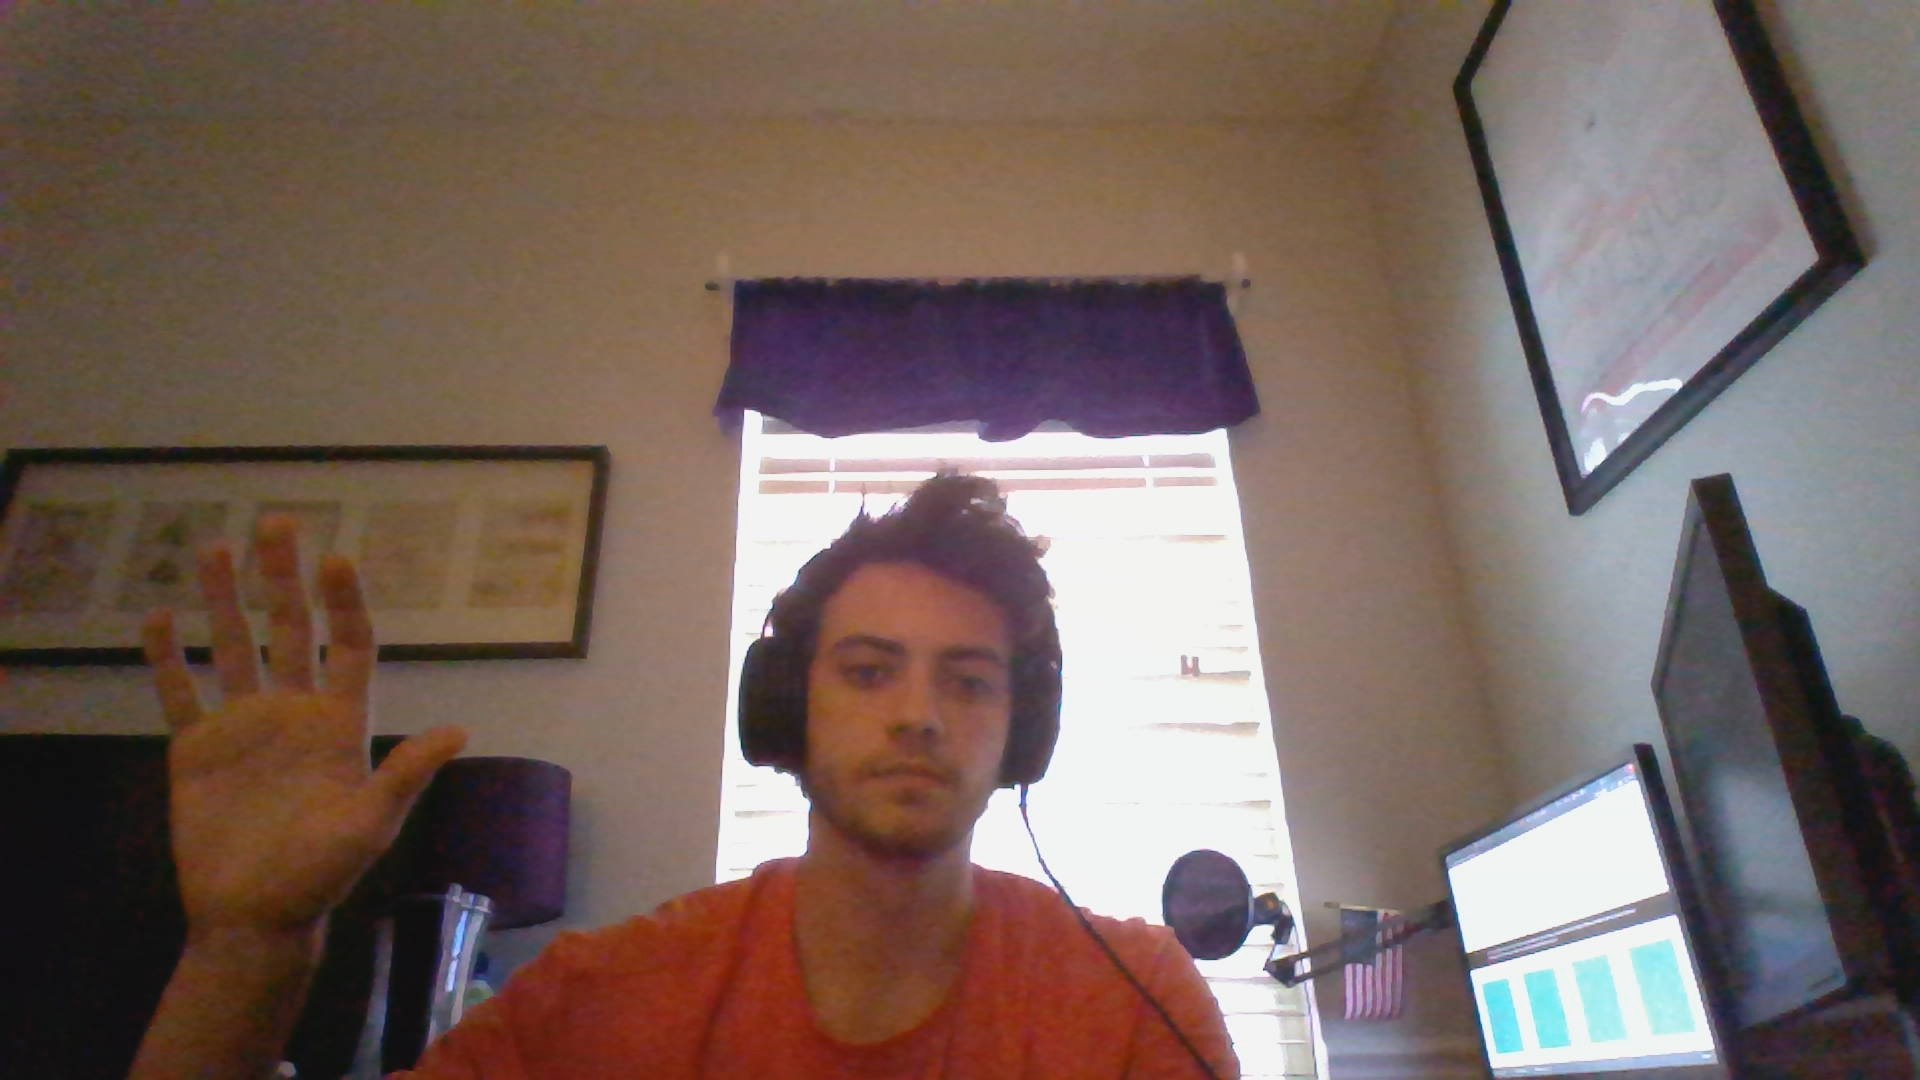Right Palm Up: (120, 512, 475, 938)
